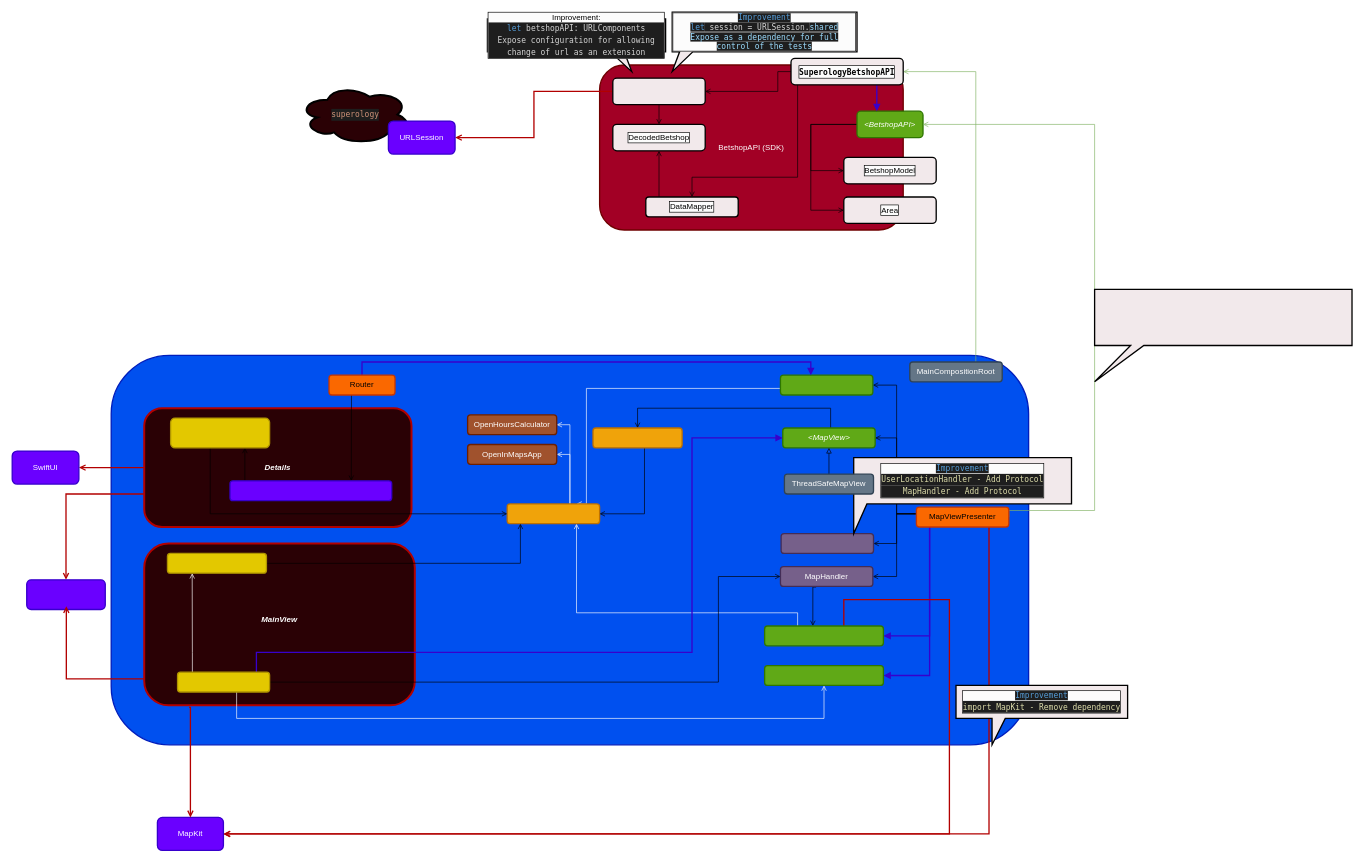
Some shapes in this 1364 by 862 pixel diagram are drawn without their labels. Here are the shapes that lost their labels. From the top down, the centre of each, then its label:
(659,91): BetshopDataRetriever
(1223,335): Improvement let betshopAPI : BetshopAPI - Remove dependency (Add an adapter)
(826,384): <MainRooter> ( typo )
(220,432): BetshopStoreDetailsView
(637,437): MapViewViewModel
(310,490): DetailView (Adapter UIKit-SwuifUI)
(553,513): Betshop
(216,563): BetshopAnnotationView
(827,543): UserLocationHandler
(66,594): UIKit
(824,635): <MapHandlerDelegate>
(223,681): MapViewController
(824,675): <MapViewPresenterProtocol>
